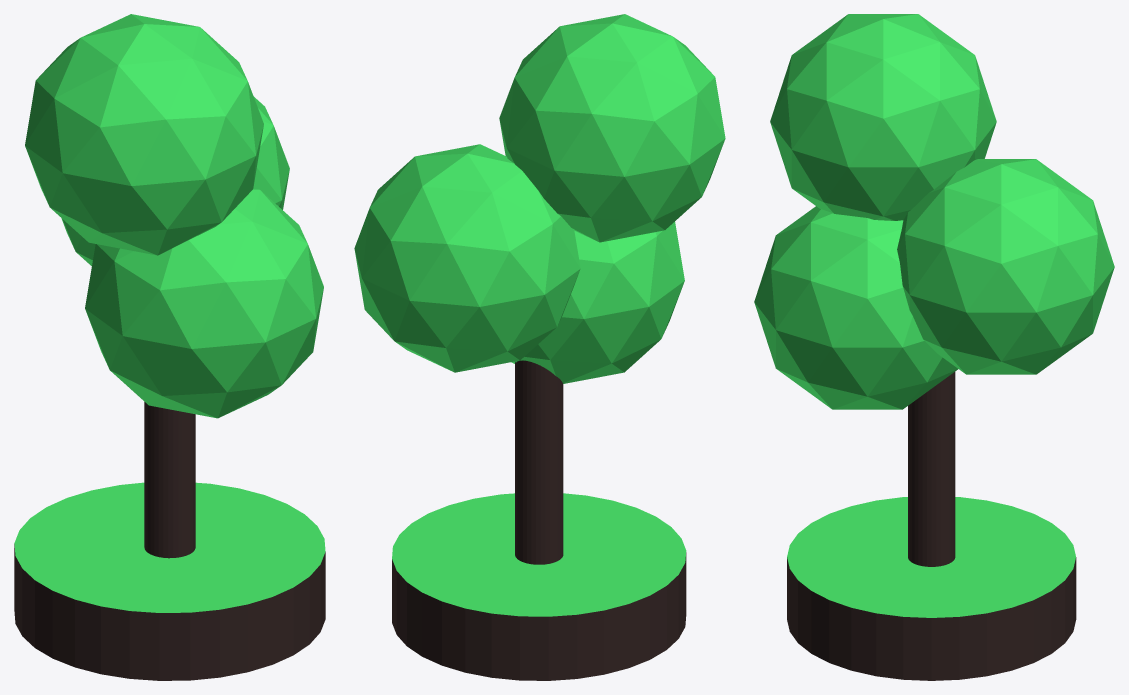
The model's file is tree.gltf.
The picture shows the model from 3 angles, left to right: view 1: azimuth 30°, elevation 25°; view 2: azimuth 150°, elevation 25°; view 3: azimuth 270°, elevation 25°; orthographic projection. The views are drawn at different scales.
Visible parts, largest first — view 1: Cylinder, Icosphere.002, Icosphere, Cylinder.001, Icosphere.001; view 2: Cylinder, Icosphere.001, Icosphere.002, Icosphere, Cylinder.001; view 3: Cylinder, Icosphere.001, Icosphere.002, Icosphere, Cylinder.001.
Part boxes in pixels (bbox=[...]): Cylinder: bbox=[14, 482, 325, 680]; Icosphere.002: bbox=[25, 14, 263, 255]; Icosphere: bbox=[85, 188, 323, 418]; Cylinder.001: bbox=[144, 402, 195, 558]; Icosphere.001: bbox=[61, 96, 289, 266]; Cylinder: bbox=[392, 493, 686, 680]; Icosphere.001: bbox=[354, 144, 580, 372]; Icosphere.002: bbox=[499, 14, 725, 242]; Icosphere: bbox=[511, 222, 684, 383]; Cylinder.001: bbox=[515, 360, 563, 564]; Cylinder: bbox=[787, 497, 1076, 680]; Icosphere.001: bbox=[897, 159, 1114, 374]; Icosphere.002: bbox=[770, 14, 996, 220]; Icosphere: bbox=[754, 206, 957, 409]; Cylinder.001: bbox=[908, 372, 955, 566].
Size of what is drawn, in the model's own units: 4.12 by 8.43 by 4.77.
